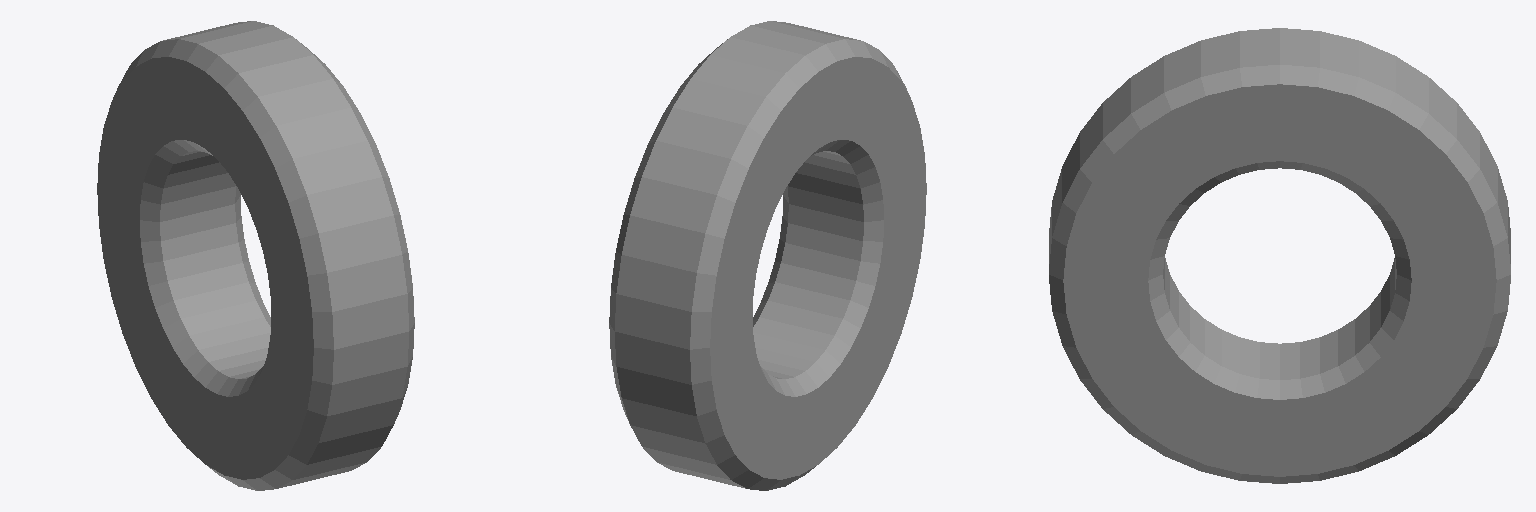
Rendered from stapler_reel_back.obj.
3 renders of one model, left to right at view 1: azimuth 30°, elevation 25°; view 2: azimuth 150°, elevation 25°; view 3: azimuth 270°, elevation 25°, orthographic.
Parts seen in each view (by area): view 1: backreel_Cylinder_1.001; view 2: backreel_Cylinder_1.001; view 3: backreel_Cylinder_1.001.
Part boxes in pixels (x1,y1,x2,y2): backreel_Cylinder_1.001: (97, 21, 414, 490); backreel_Cylinder_1.001: (609, 21, 926, 490); backreel_Cylinder_1.001: (1049, 28, 1510, 483).
Size of the model in its own units: 0.8588 by 3.41 by 3.41.